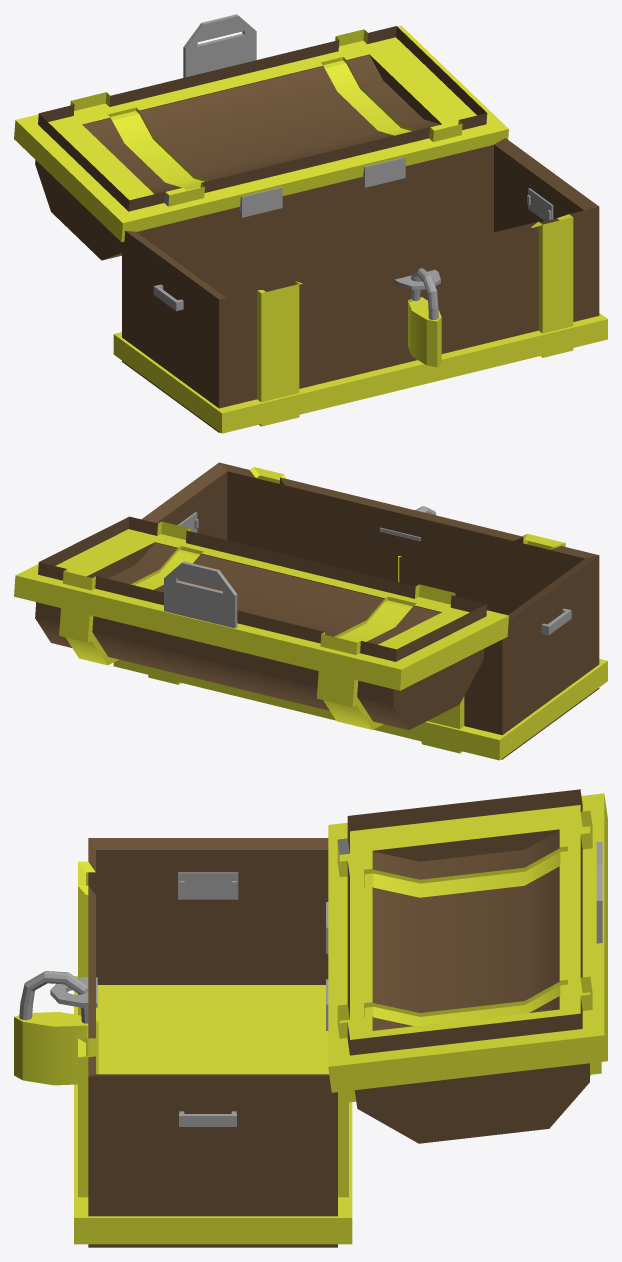
Rendered from Chest_Open.fbx.
3 views of the same model, one above another, from view 1: azimuth 30°, elevation 25°; view 2: azimuth 150°, elevation 25°; view 3: azimuth 270°, elevation 25° (orthographic). The views are drawn at different scales.
Parts seen in each view (by area): view 1: polySurface26; view 2: polySurface26; view 3: polySurface26.
Boxes of the visible parts, left/top/right/bottom form: polySurface26: left=14, top=14, right=607, bottom=433; polySurface26: left=14, top=462, right=607, bottom=760; polySurface26: left=14, top=789, right=607, bottom=1247.
Size of the model in its own units: 112 by 59.07 by 113.
